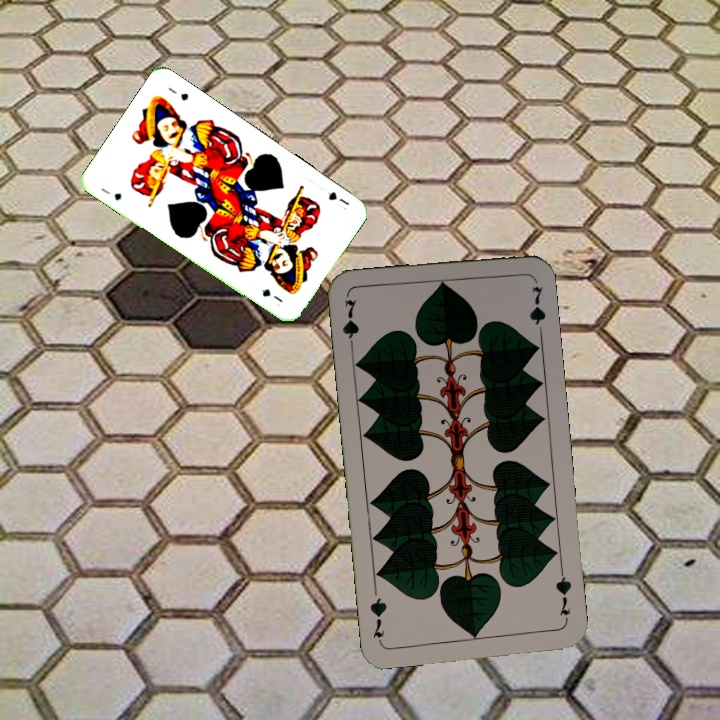G7: (338, 295, 362, 354), (551, 566, 574, 625)
GU: (324, 187, 352, 213), (97, 184, 124, 203)
